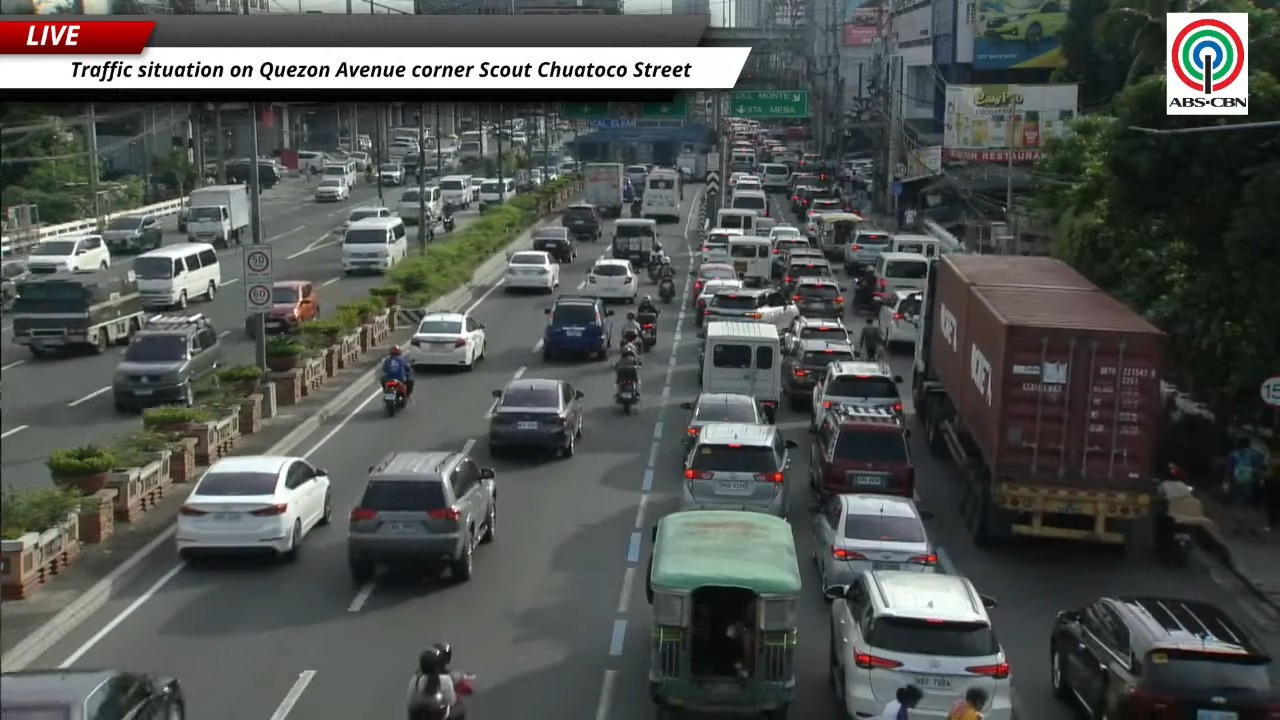car: (1050, 597, 1279, 719), (824, 571, 1012, 719), (347, 452, 497, 584), (175, 455, 330, 559), (814, 493, 936, 590), (681, 422, 796, 518), (112, 314, 222, 411), (0, 668, 186, 719), (810, 406, 914, 497), (488, 378, 583, 456), (810, 360, 902, 427), (782, 335, 854, 409), (682, 393, 765, 455), (406, 311, 486, 370), (542, 295, 613, 360), (702, 288, 798, 332), (981, 0, 1068, 44), (26, 235, 110, 274), (265, 280, 320, 332), (878, 290, 922, 350), (583, 258, 638, 303), (102, 214, 162, 253), (502, 251, 559, 292), (694, 279, 743, 326), (781, 251, 835, 293), (784, 316, 852, 349), (791, 277, 844, 317), (690, 263, 739, 301), (696, 228, 744, 265), (771, 234, 810, 276), (335, 206, 392, 234), (561, 203, 603, 241), (532, 226, 576, 262), (804, 200, 843, 238), (0, 259, 30, 307), (780, 241, 824, 267), (314, 176, 349, 201), (790, 183, 812, 218), (379, 162, 405, 185), (769, 225, 802, 243), (788, 172, 817, 192), (733, 176, 763, 195), (727, 171, 752, 191), (348, 150, 370, 171)
motorcycle: (409, 673, 475, 717), (383, 379, 407, 416), (615, 379, 639, 415), (658, 277, 675, 303), (641, 323, 656, 352), (442, 211, 455, 232), (622, 329, 637, 346), (647, 262, 658, 282), (630, 200, 641, 217)
truck: (912, 255, 1165, 547), (10, 271, 144, 356), (186, 184, 250, 247), (581, 163, 625, 217), (457, 130, 489, 161), (677, 152, 706, 182)
